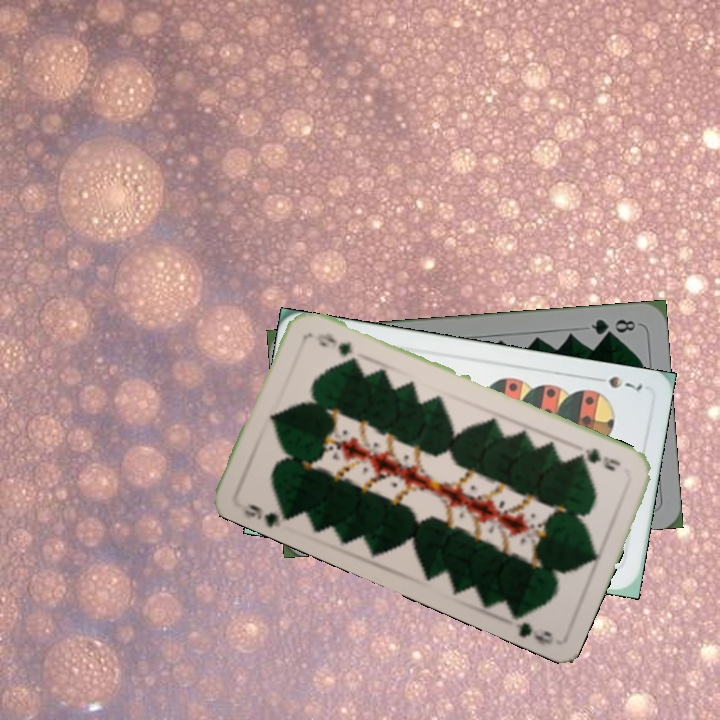G8: (587, 315, 638, 338)
G9: (240, 499, 293, 530), (572, 444, 624, 474)
S7: (588, 372, 645, 394)
